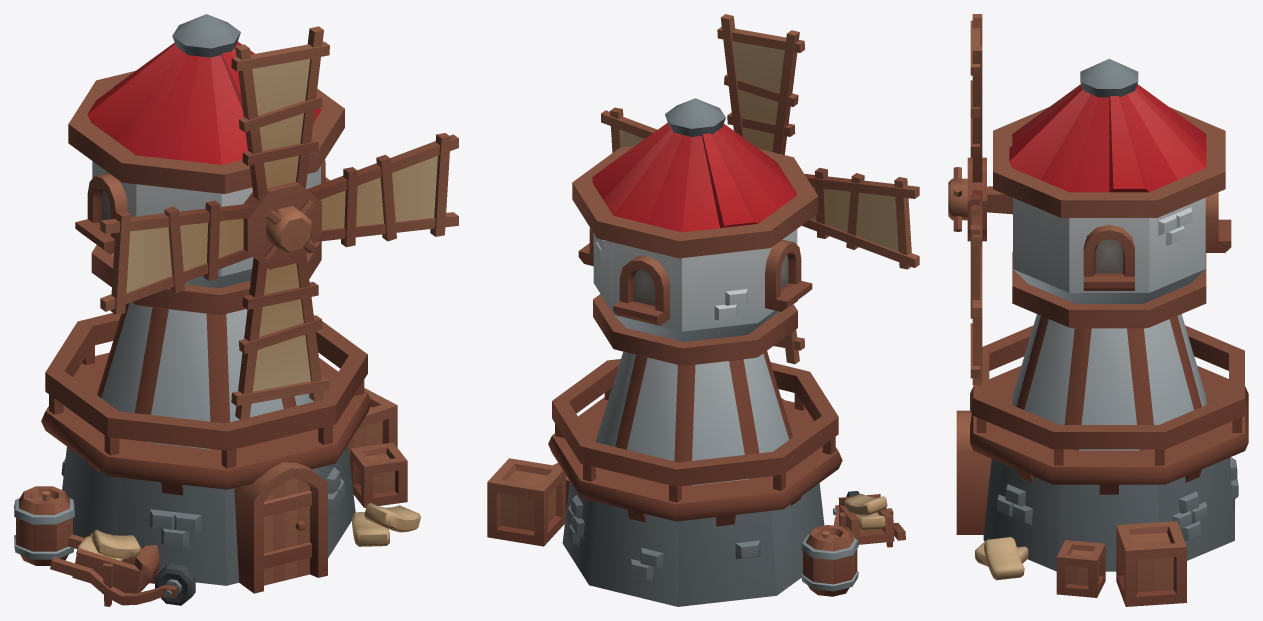
The model's file is windmill.glb.
3 renders of one model, left to right at view 1: azimuth 30°, elevation 25°; view 2: azimuth 150°, elevation 25°; view 3: azimuth 270°, elevation 25°, orthographic. The views are drawn at different scales.
Visible parts, largest first — view 1: building_windmill_red, building_windmill_top_fan_red, building_windmill_top_red; view 2: building_windmill_red, building_windmill_top_red, building_windmill_top_fan_red; view 3: building_windmill_red, building_windmill_top_red, building_windmill_top_fan_red.
Boxes of the visible parts, x1,y1,x2,y2 form: building_windmill_red: (14, 302, 420, 606); building_windmill_top_fan_red: (100, 26, 458, 419); building_windmill_top_red: (68, 14, 344, 314); building_windmill_red: (487, 351, 905, 606); building_windmill_top_red: (572, 98, 818, 365); building_windmill_top_fan_red: (601, 14, 919, 364); building_windmill_red: (956, 314, 1248, 606); building_windmill_top_red: (987, 58, 1231, 328); building_windmill_top_fan_red: (948, 14, 986, 384).
Size of the model in its own units: 1.13 by 1.46 by 0.8165.
